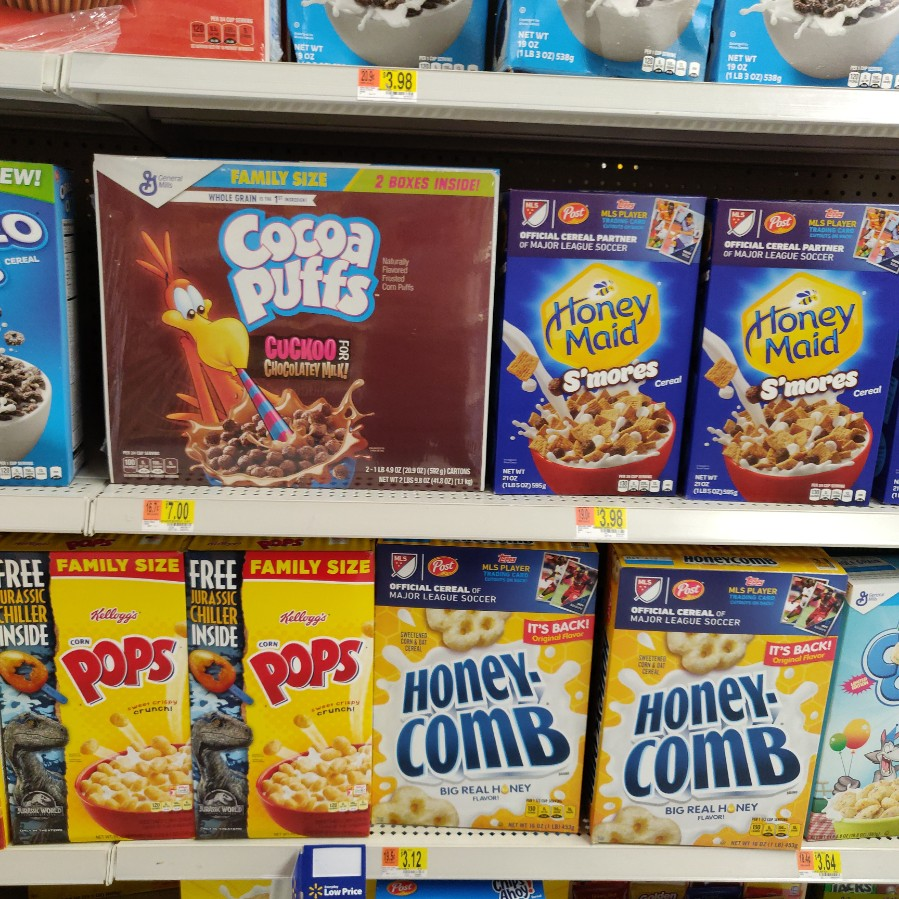Honey Comb- 009288857: (376, 551, 587, 828), (620, 558, 820, 845)
